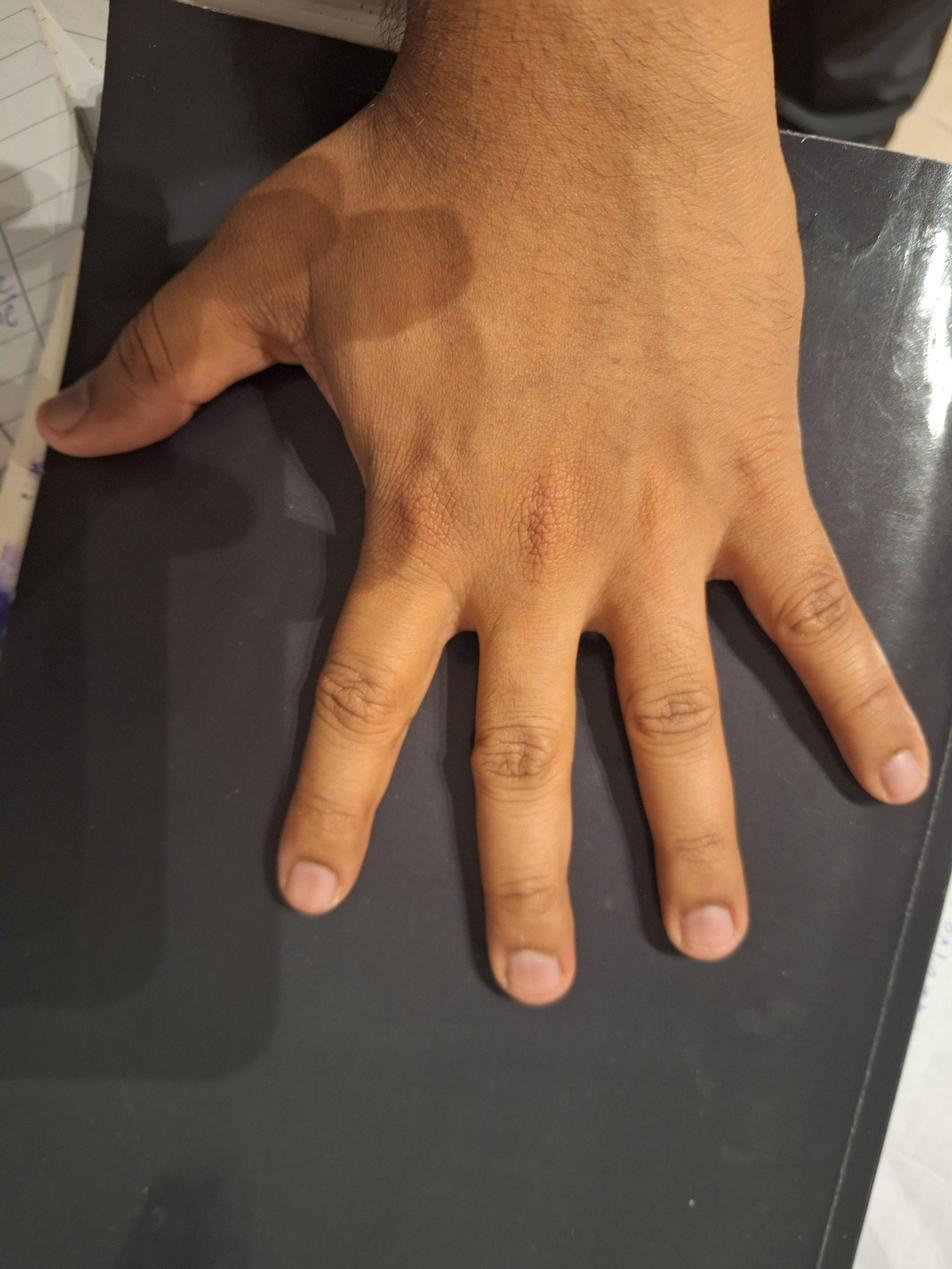Fingernail: (286, 861, 338, 912), (508, 951, 561, 997), (681, 905, 734, 950), (881, 750, 925, 799), (48, 385, 89, 435)
